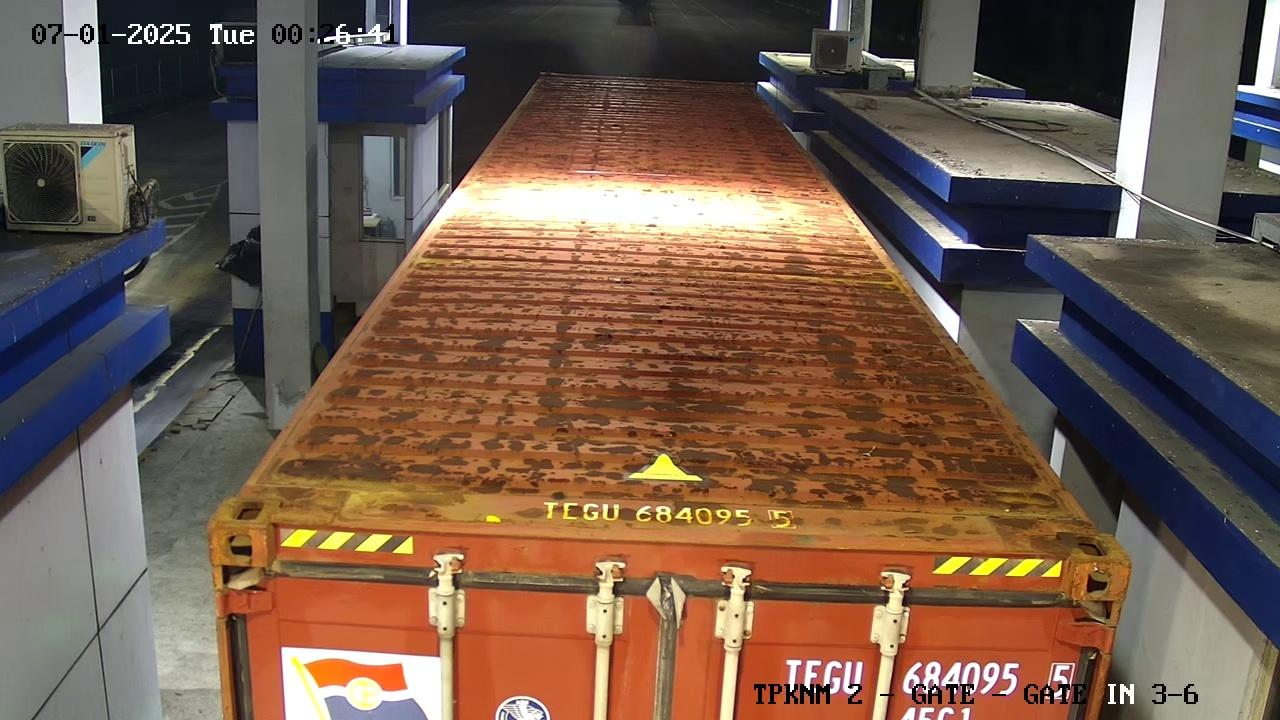Container_ID: (525, 500, 825, 545)
